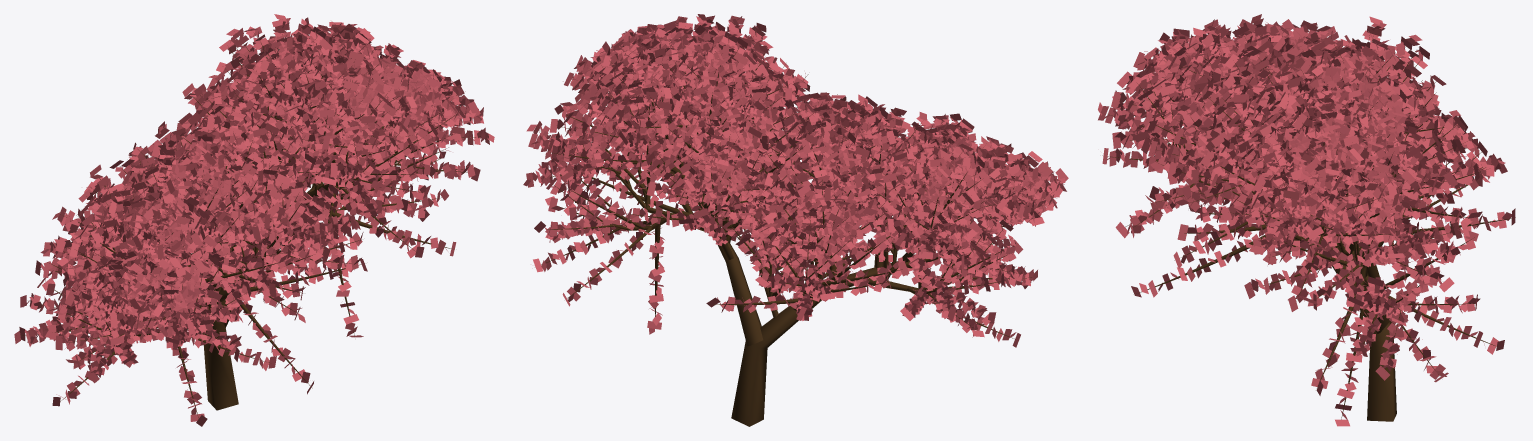
The model's file is arbolYamato.fbx.
The picture shows the model from 3 angles, left to right: view 1: azimuth 30°, elevation 25°; view 2: azimuth 150°, elevation 25°; view 3: azimuth 270°, elevation 25°; orthographic projection. The views are drawn at different scales.
Visible parts, largest first — view 1: leaves, tree; view 2: leaves, tree; view 3: leaves, tree.
Part boxes in pixels (x1=…): leaves: x1=14, y1=14, x2=494, y2=426; tree: x1=21, y1=32, x2=480, y2=418; leaves: x1=523, y1=14, x2=1068, y2=347; tree: x1=530, y1=36, x2=1051, y2=426; leaves: x1=1098, y1=14, x2=1515, y2=426; tree: x1=1108, y1=32, x2=1515, y2=421.
Size of the model in its own units: 989 by 773 by 707.
